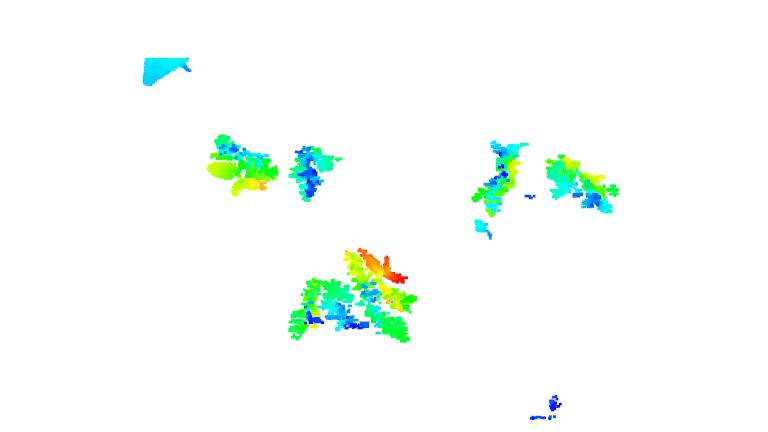chickpea: (342, 248, 419, 343), (286, 273, 364, 340), (470, 138, 528, 219), (546, 153, 619, 214), (207, 135, 281, 195), (285, 143, 338, 203)
